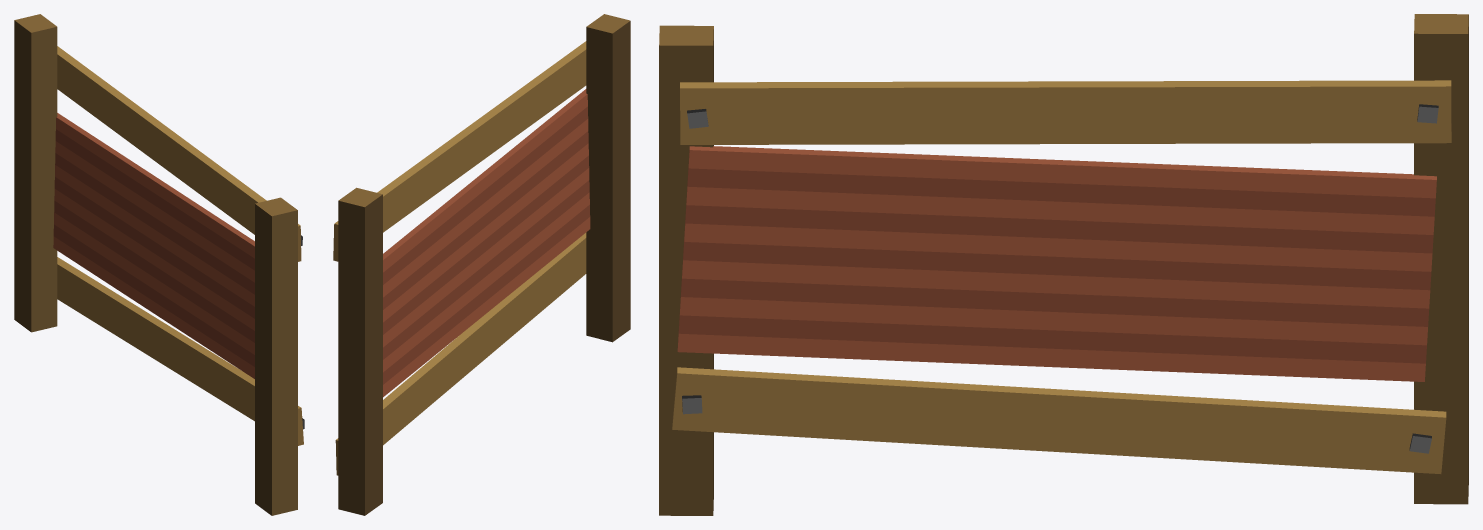
The model's file is Fence_Corrugated_Damaged_02.fbx.
The picture shows the model from 3 angles, left to right: view 1: azimuth 30°, elevation 25°; view 2: azimuth 150°, elevation 25°; view 3: azimuth 270°, elevation 25°; orthographic projection. The views are drawn at different scales.
Parts seen in each view (by area): view 1: Fence_Corrugated_Damaged_02; view 2: Fence_Corrugated_Damaged_02; view 3: Fence_Corrugated_Damaged_02.
Part boxes in pixels (bbox=[...]): Fence_Corrugated_Damaged_02: bbox=[14, 14, 304, 515]; Fence_Corrugated_Damaged_02: bbox=[333, 14, 630, 515]; Fence_Corrugated_Damaged_02: bbox=[659, 14, 1468, 515].
Size of the model in its own units: 0.4361 by 4.84 by 3.18.
